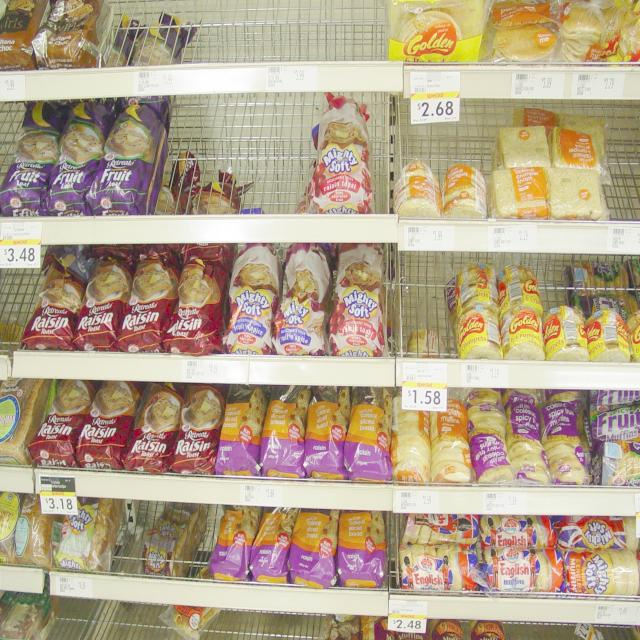empty_space: (121, 8, 374, 57), (181, 114, 295, 207), (124, 512, 200, 570), (61, 608, 163, 640), (226, 616, 350, 640), (409, 267, 443, 353), (616, 127, 640, 213), (8, 275, 28, 337)
